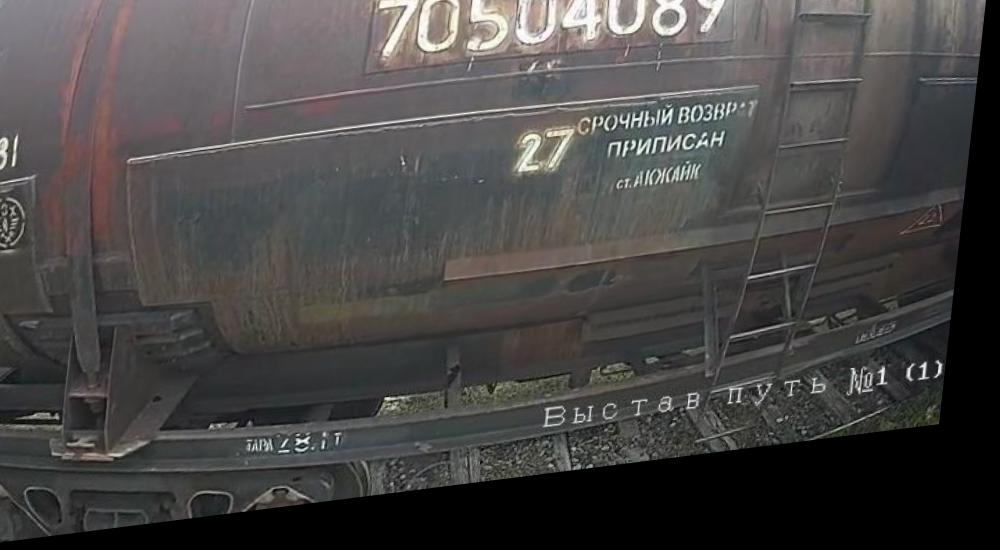Wagon-number: (369, 0, 736, 90)
